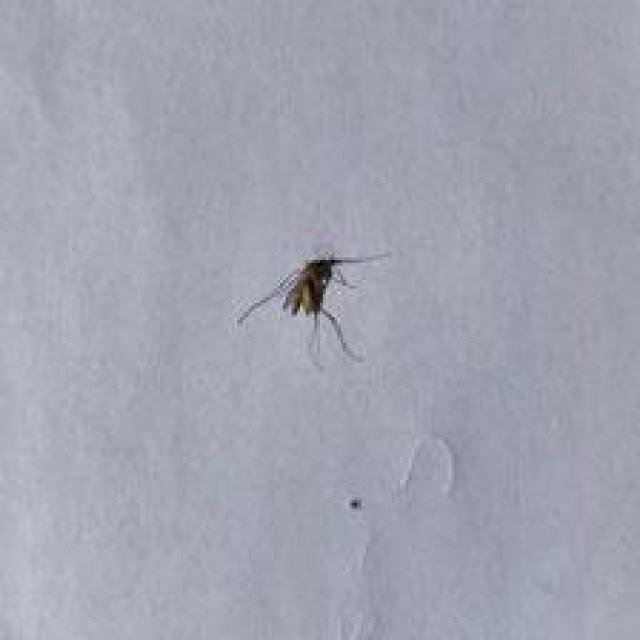Culex: (236, 247, 393, 367)
